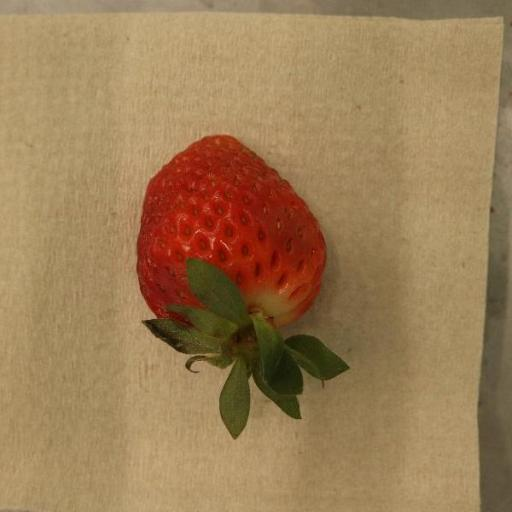Strawberry: (136, 135, 350, 440)
